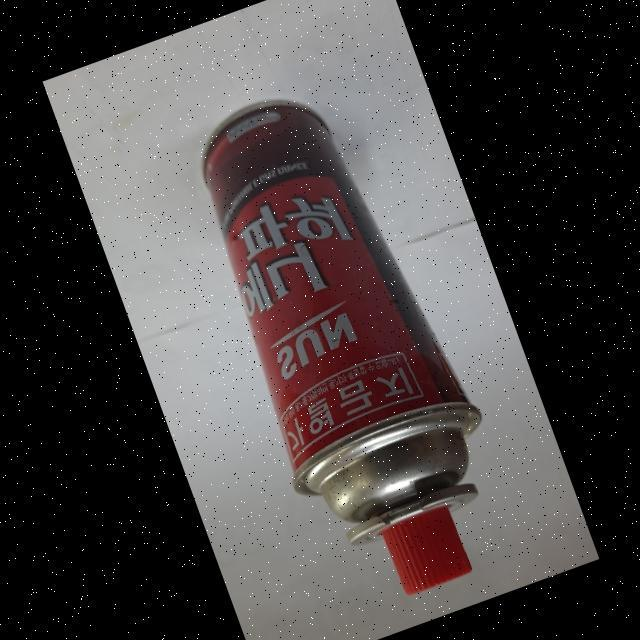chemical_spray_can: (150, 50, 546, 640)
